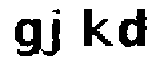d: (118, 4, 149, 51)
g: (12, 13, 45, 60)
j: (43, 5, 67, 58)
k: (80, 3, 115, 51)
